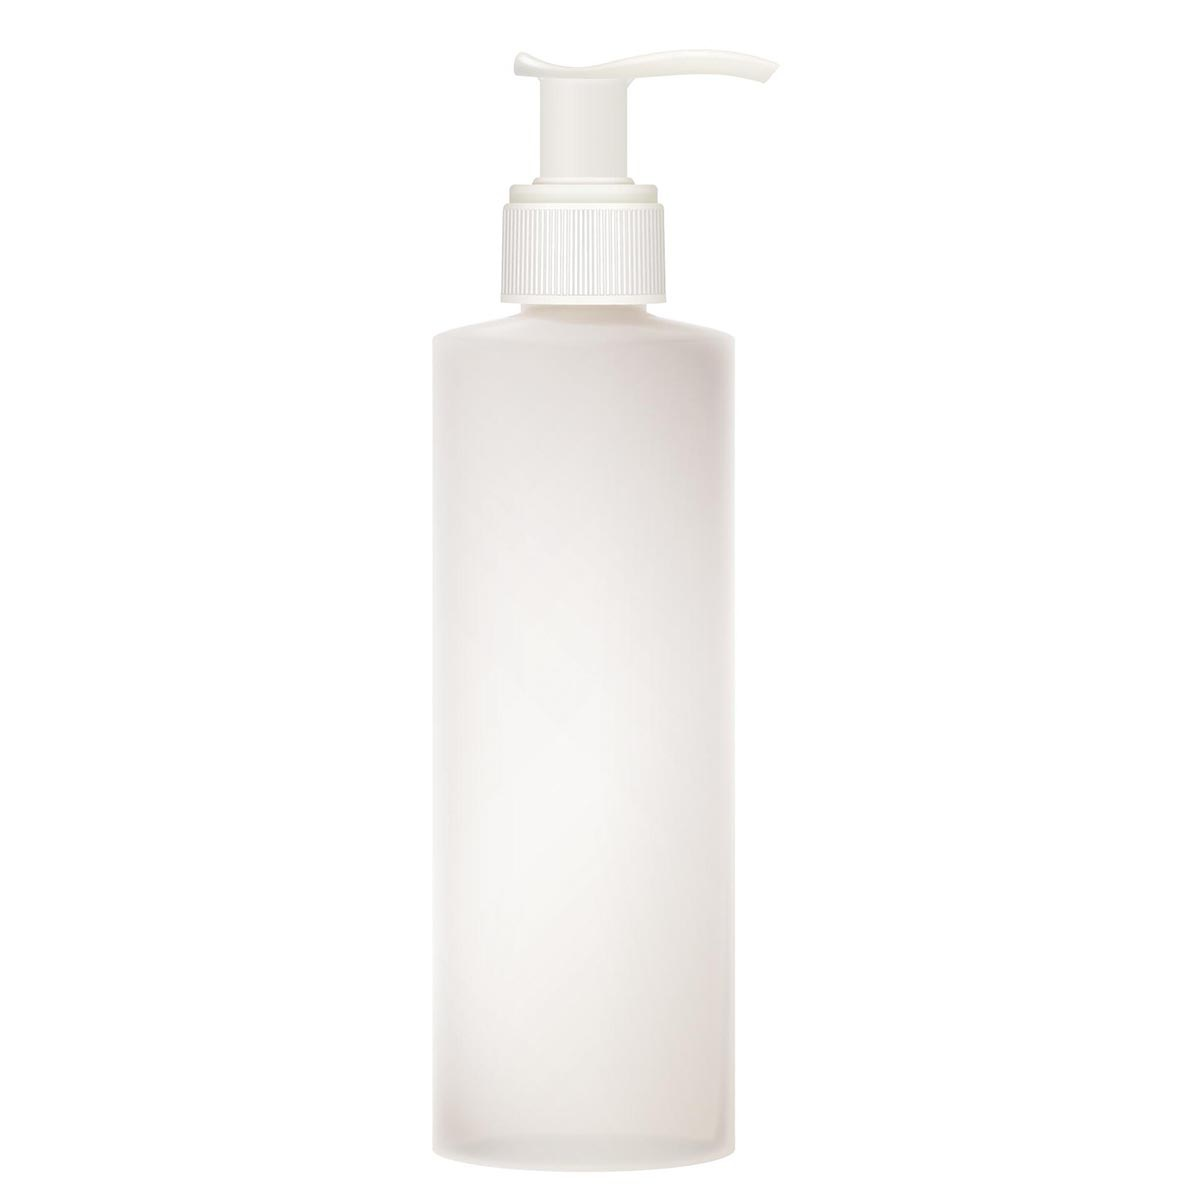emptybottle: (430, 47, 734, 1165)
